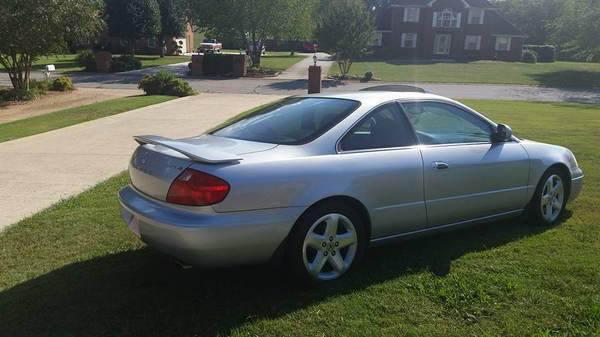acura: (108, 94, 585, 285)
